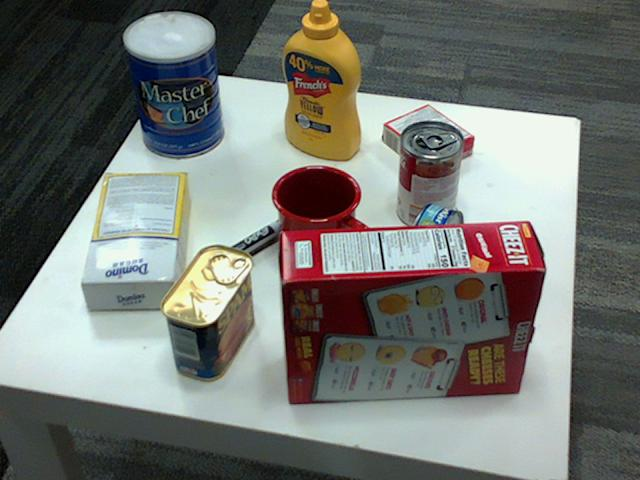cracker_box: (277, 218, 543, 400)
gelatin_box: (384, 104, 475, 172)
large_marker: (205, 212, 298, 279)
master_chef_can: (122, 12, 221, 158)
mug: (270, 162, 372, 271)
mustard_bottle: (281, 0, 360, 160)
potted_meat_can: (161, 244, 254, 381)
sugar_box: (81, 169, 189, 307)
tomato_soup_can: (395, 121, 462, 230)
tuna_fish_can: (401, 202, 462, 290)
